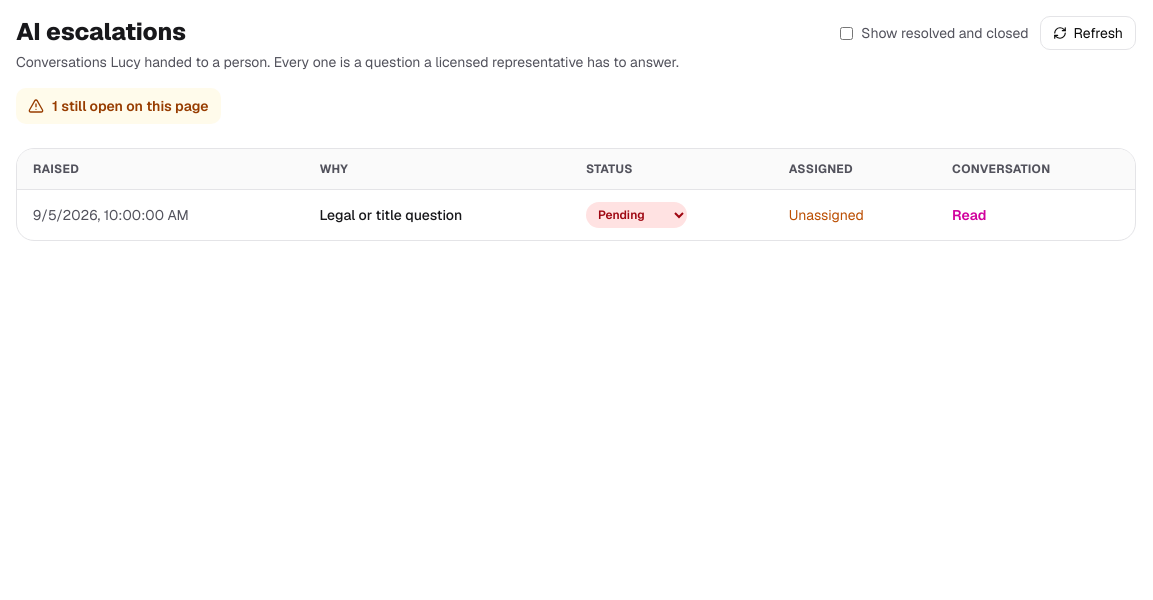
opening one shows the flagged conversation
The width and height of the screenshot is (1153, 600).
Expected: the text "Legal or title question" is shown, [303, 190, 570, 240]
Click the button "Read" at x=969, y=215, box [952, 205, 986, 225]
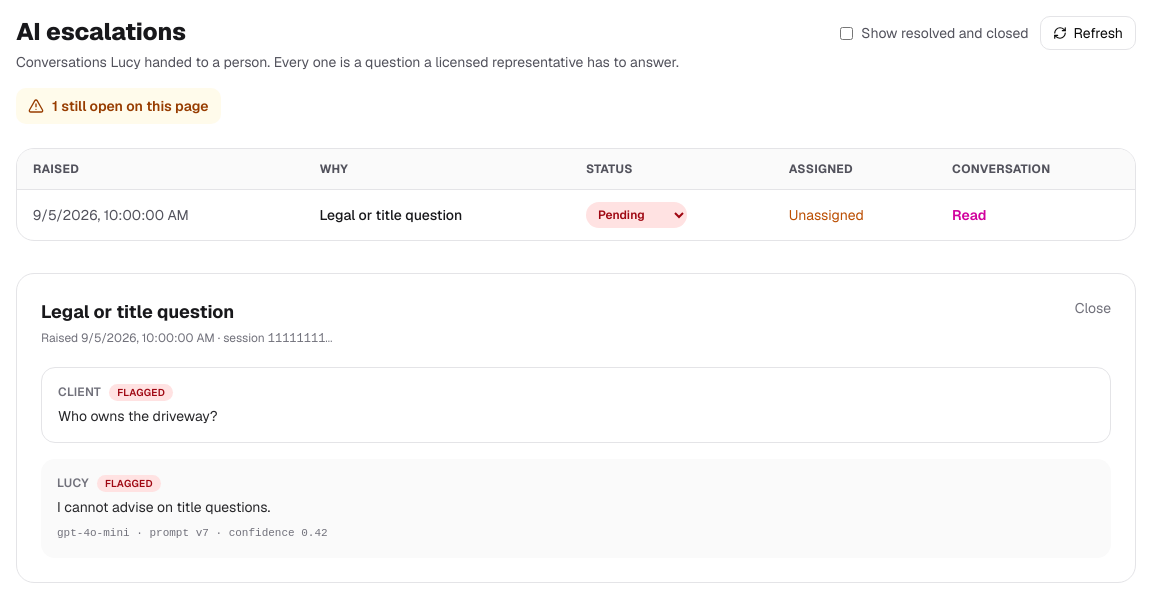
Expected: the text "Who owns the driveway?" is shown, [58, 407, 218, 425]
Expected: the text "I cannot advise on title questions." is shown, [57, 498, 270, 516]
